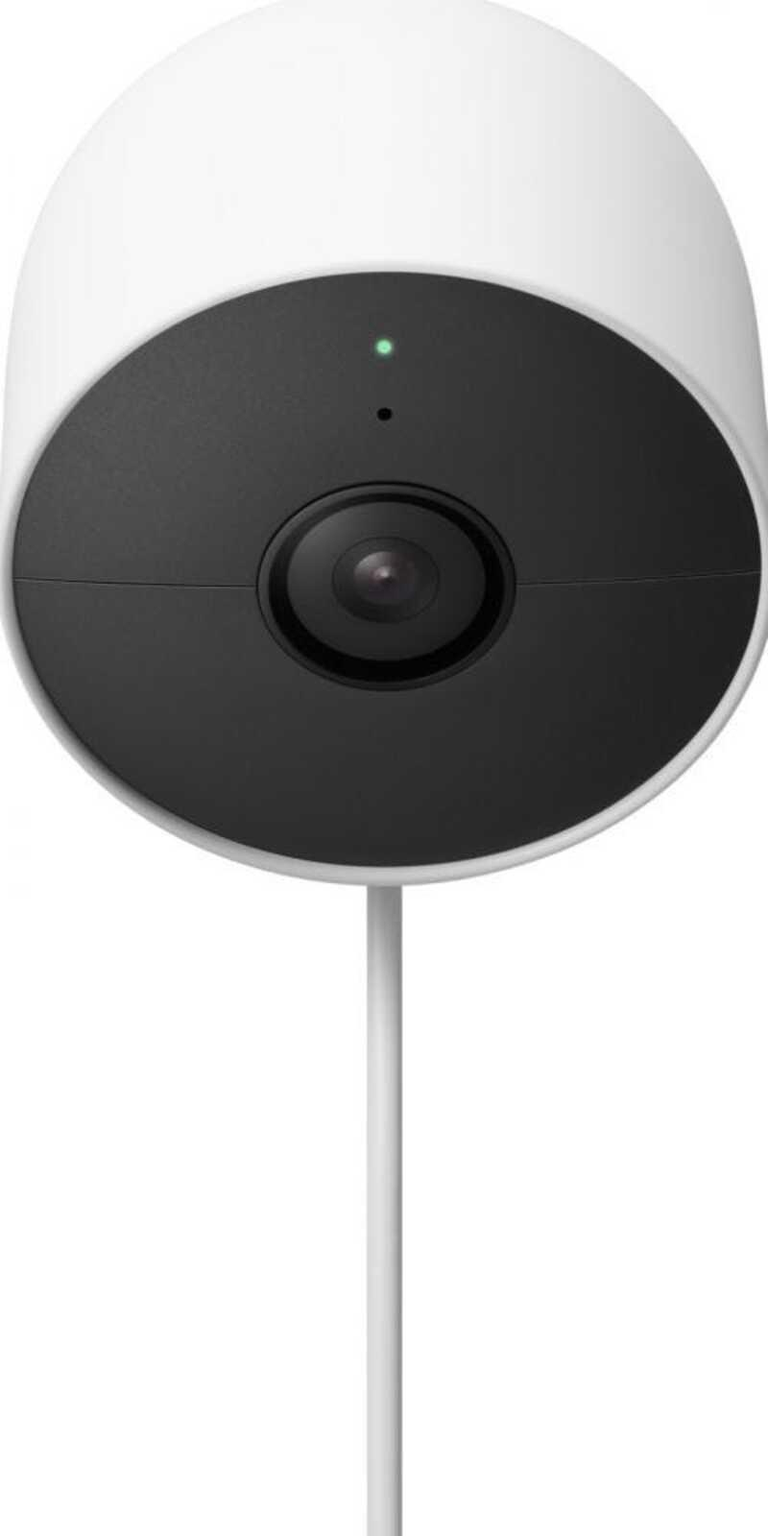nest: (1, 4, 765, 900)
